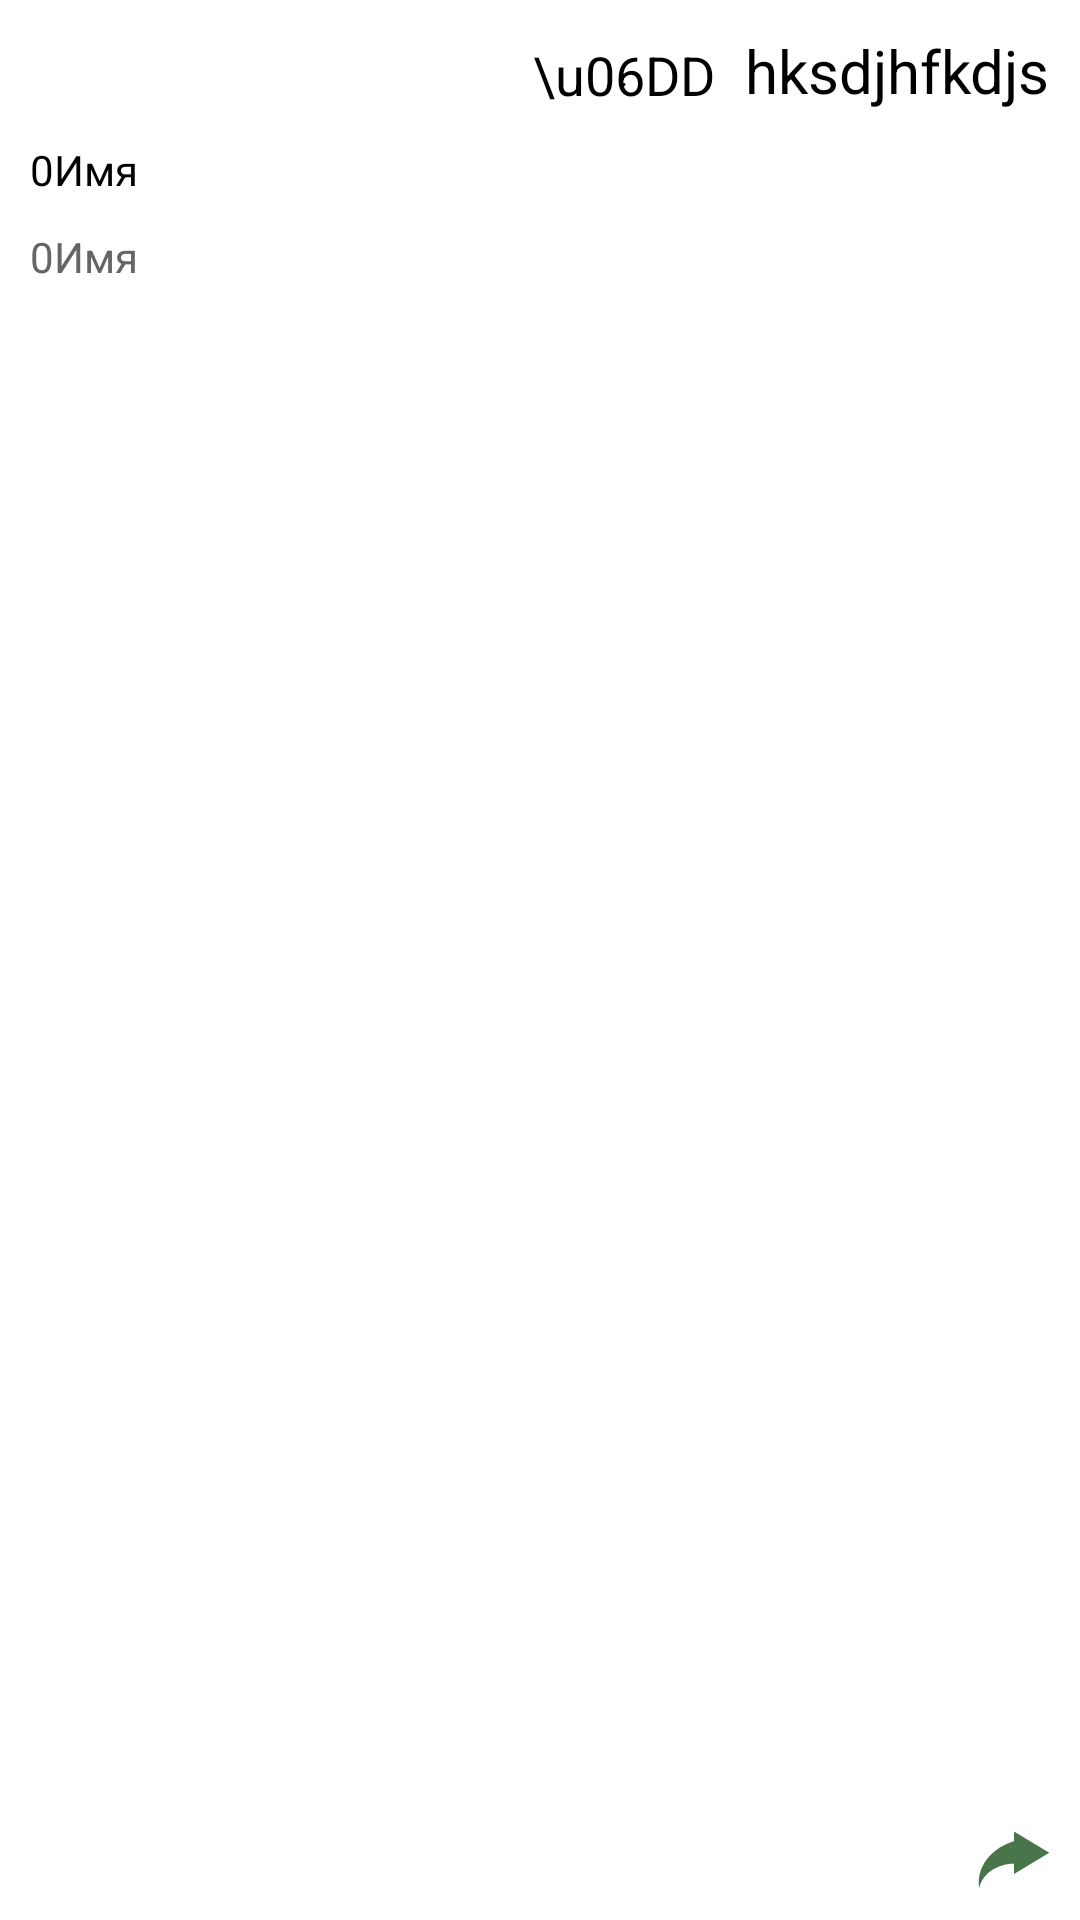

Locate icon controls on the screen. Image size 1080w x 1920h, boxes as detection(x1, y1, x2, y2).
share: detection(978, 1831, 1049, 1888)
